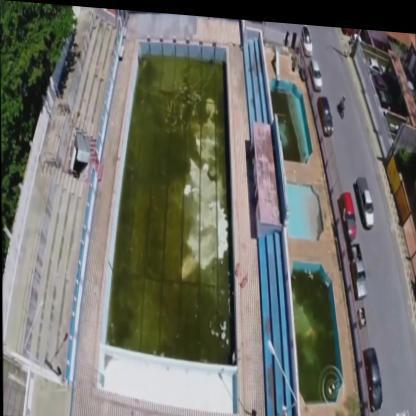agua: (141, 57, 225, 355), (294, 267, 328, 389), (279, 91, 300, 151)
